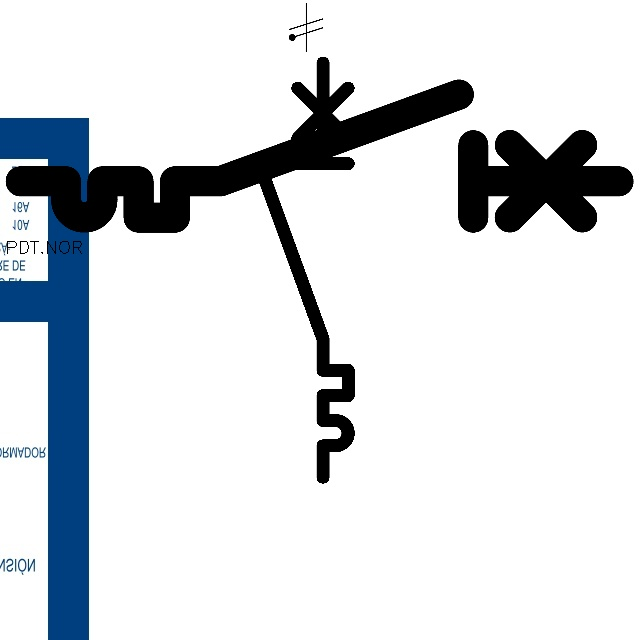interruptor_termomagnetico: (5, 79, 634, 233), (252, 52, 359, 488)
